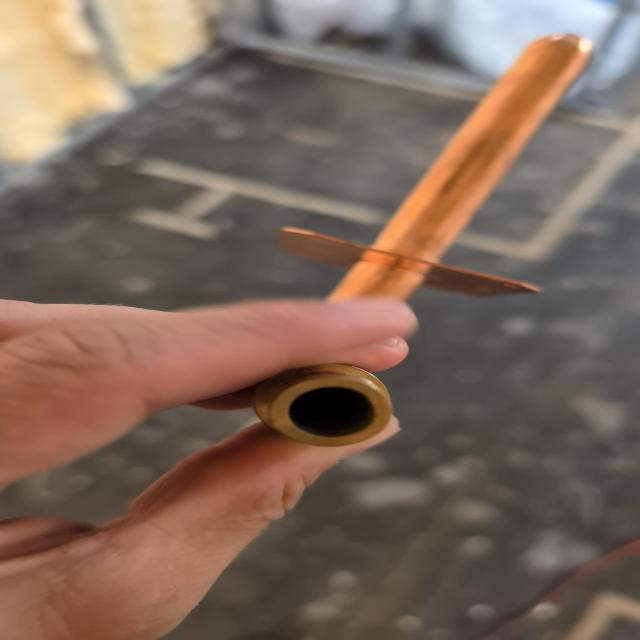wall_flange: (258, 28, 615, 447)
